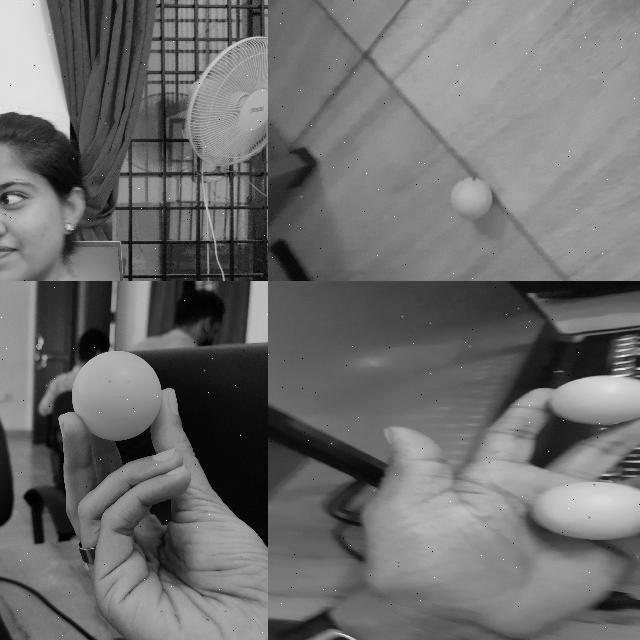ping-pong-ball: (70, 348, 160, 438), (534, 482, 639, 540), (550, 375, 639, 423), (450, 177, 492, 220)
